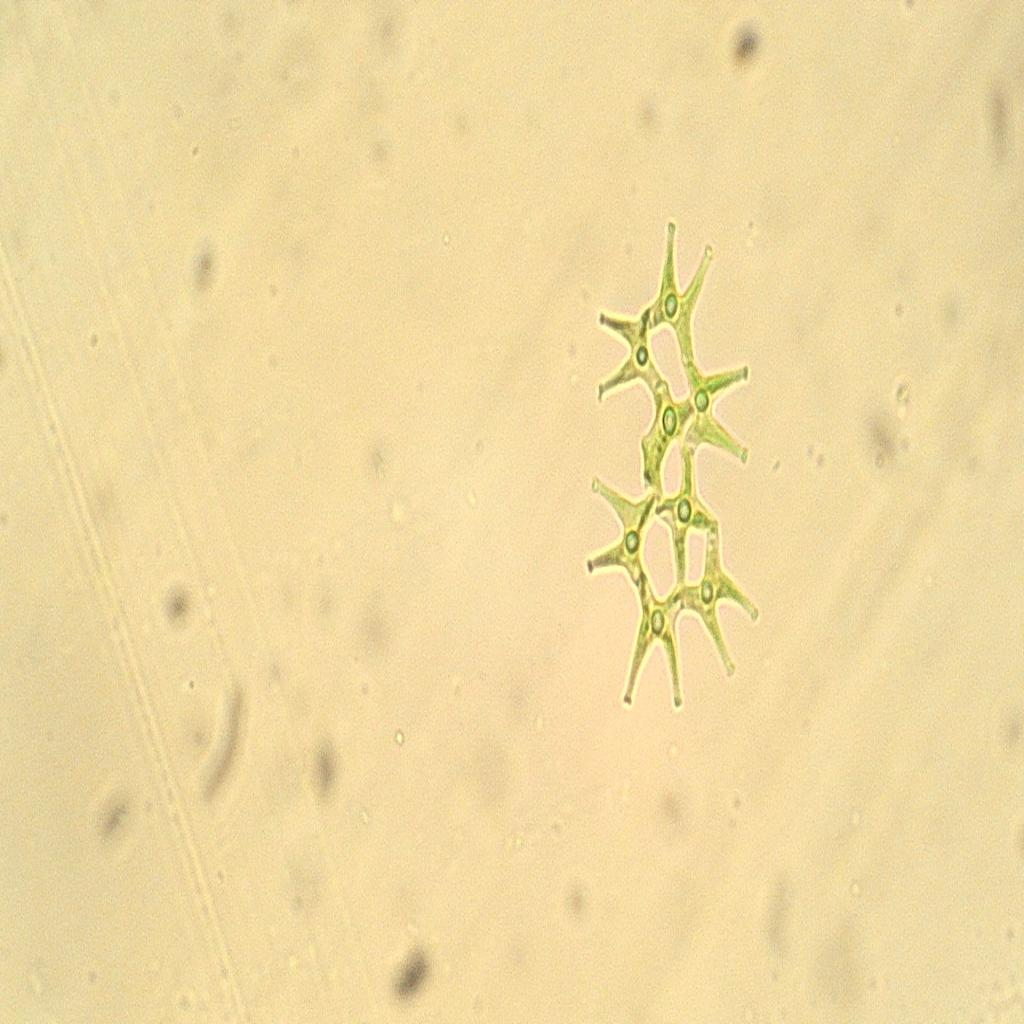Pediastrum_CFI: (580, 191, 773, 735)
